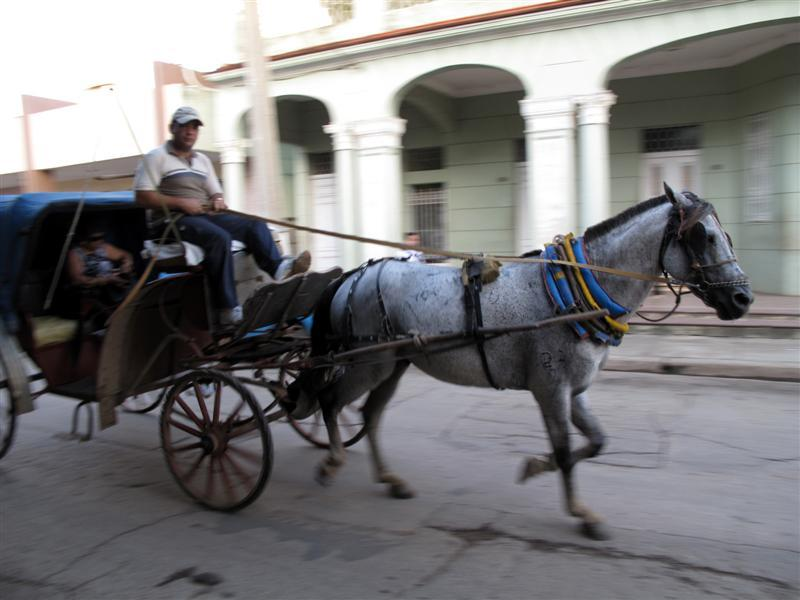horse: (272, 181, 753, 539)
